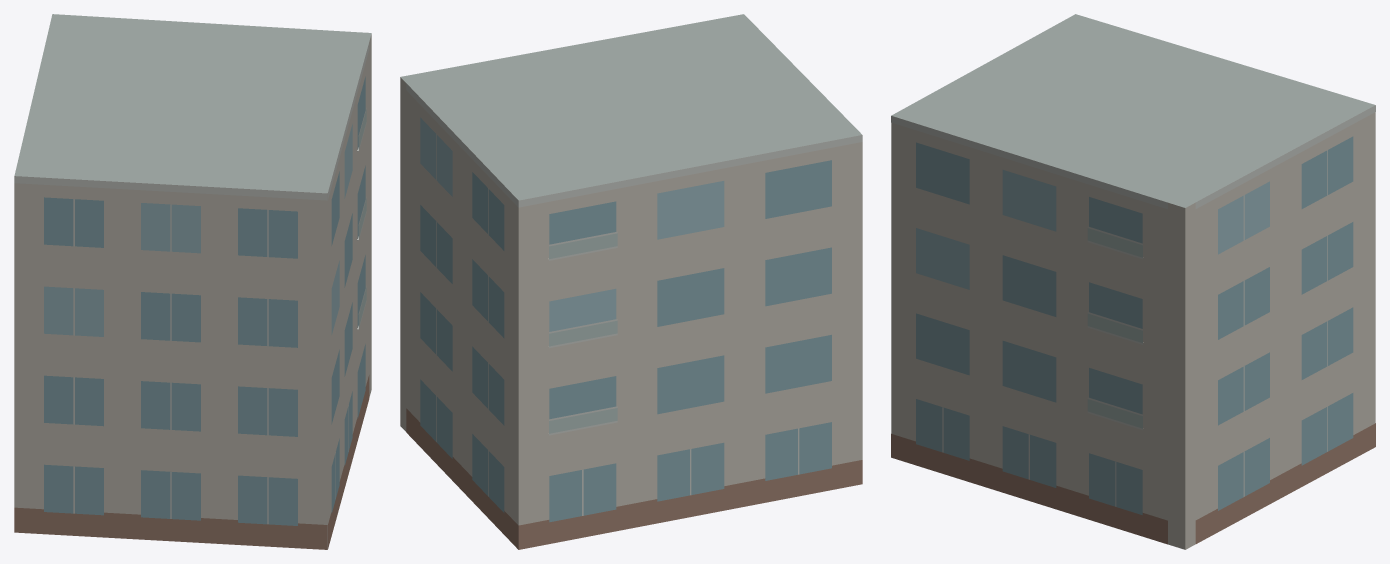
The model's file is survey-upis-32735997.glb.
The picture shows the model from 3 angles, left to right: view 1: azimuth 30°, elevation 25°; view 2: azimuth 150°, elevation 25°; view 3: azimuth 270°, elevation 25°; orthographic projection. The views are drawn at different scales.
Parts seen in each view (by area): view 1: survey-upis-32735997.tmp; view 2: survey-upis-32735997.tmp; view 3: survey-upis-32735997.tmp.
Boxes of the visible parts, left/top/right/bottom form: survey-upis-32735997.tmp: left=14, top=14, right=371, bottom=549; survey-upis-32735997.tmp: left=400, top=14, right=862, bottom=549; survey-upis-32735997.tmp: left=891, top=14, right=1375, bottom=549.
Bounding box in the file's own units: 14.86 × 12.2 × 15.68.
